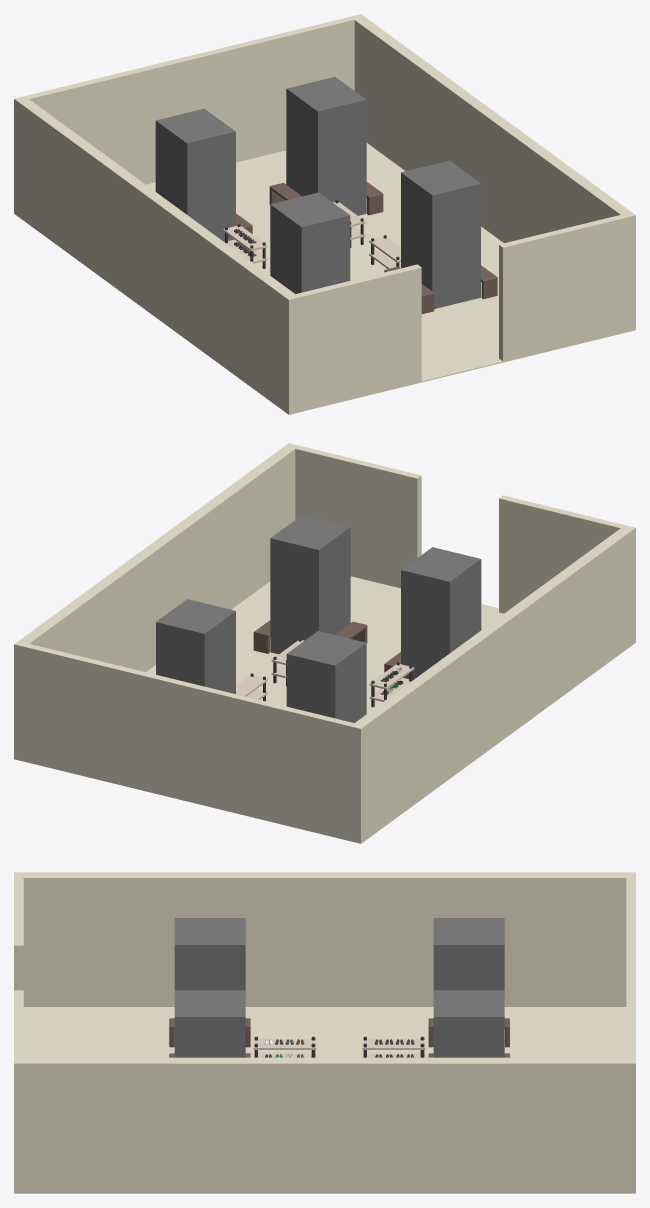
The model's file is Department-store.fbx.
3 views of the same model, one above another, from view 1: azimuth 30°, elevation 25°; view 2: azimuth 150°, elevation 25°; view 3: azimuth 270°, elevation 25° (orthographic). The views are drawn at different scales.
Visible parts, largest first — view 1: pCube1, pCube30, pCube22, pCube32, pCube33; view 2: pCube1, pCube30, pCube22, pCube31; view 3: pCube1, pCube30, pCube31, pCube32, pCube22.
Boxes of the visible parts, x1=… form: pCube1: x1=14, y1=14, x2=635, y2=414; pCube30: x1=155, y1=77, x2=480, y2=308; pCube22: x1=236, y1=182, x2=497, y2=314; pCube32: x1=223, y1=225, x2=267, y2=263; pCube33: x1=369, y1=237, x2=400, y2=268; pCube1: x1=14, y1=443, x2=635, y2=843; pCube30: x1=156, y1=515, x2=481, y2=722; pCube22: x1=253, y1=620, x2=400, y2=672; pCube31: x1=369, y1=664, x2=414, y2=701; pCube1: x1=14, y1=872, x2=635, y2=1193; pCube30: x1=174, y1=918, x2=504, y2=1057; pCube31: x1=253, y1=1038, x2=316, y2=1057; pCube32: x1=362, y1=1038, x2=425, y2=1057; pCube22: x1=169, y1=1018, x2=509, y2=1057.
Bounding box in the file's own units: 42.77 × 13.57 × 58.68.
